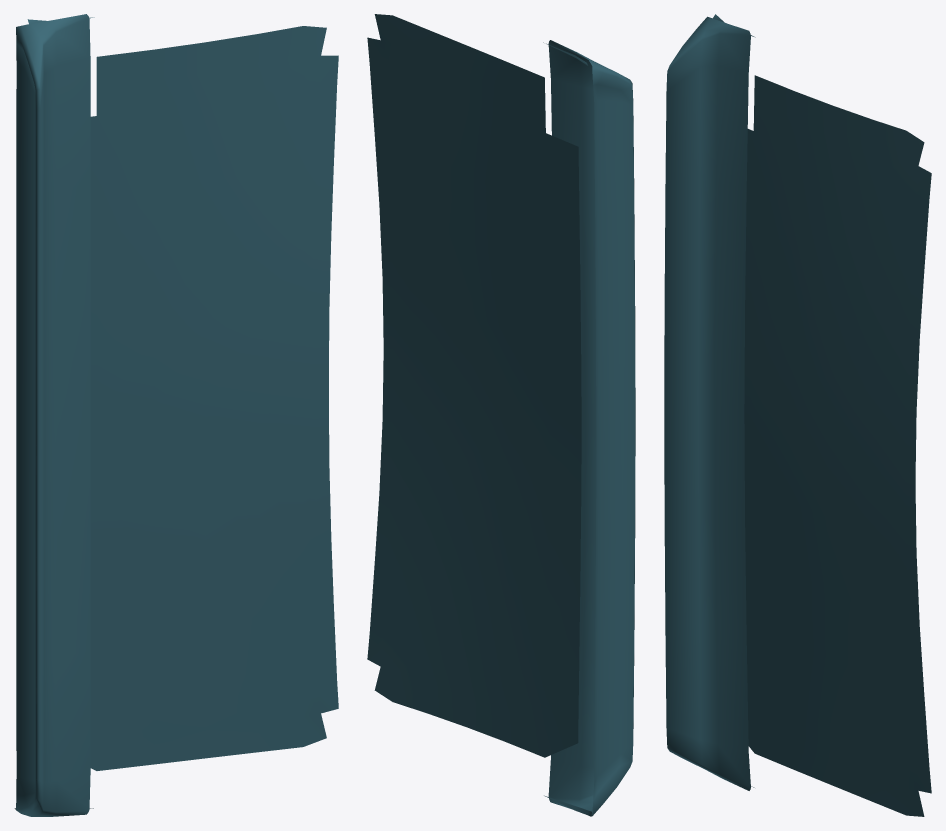
Rendered from CamaroTrunk.obj.
The picture shows the model from 3 angles, left to right: view 1: azimuth 30°, elevation 25°; view 2: azimuth 150°, elevation 25°; view 3: azimuth 330°, elevation 25°; orthographic projection. The views are drawn at different scales.
Bounding box in the file's own units: 2.6 × 6.8 × 0.7442.
